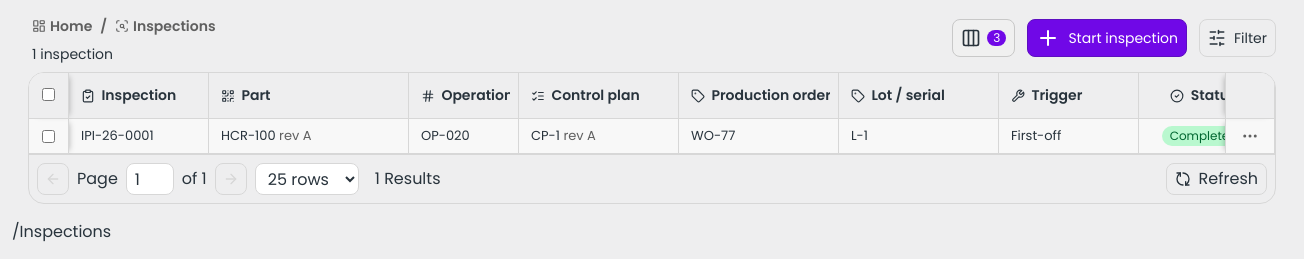
inspection register › opens an inspection from the row actions
Expected: the link "IPI-26-0001" is shown, [77, 126, 158, 146]
Click the button named "Actions" at (1250, 136), box [1237, 123, 1263, 149]
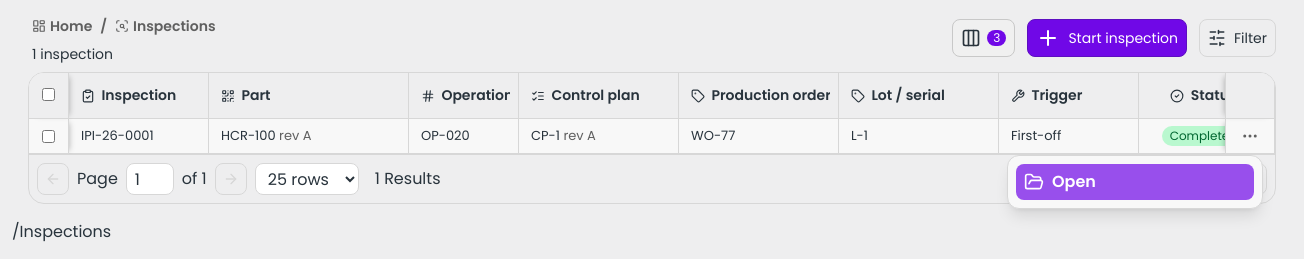
Click the menu item "Open" at (1135, 182), box [1016, 164, 1254, 200]
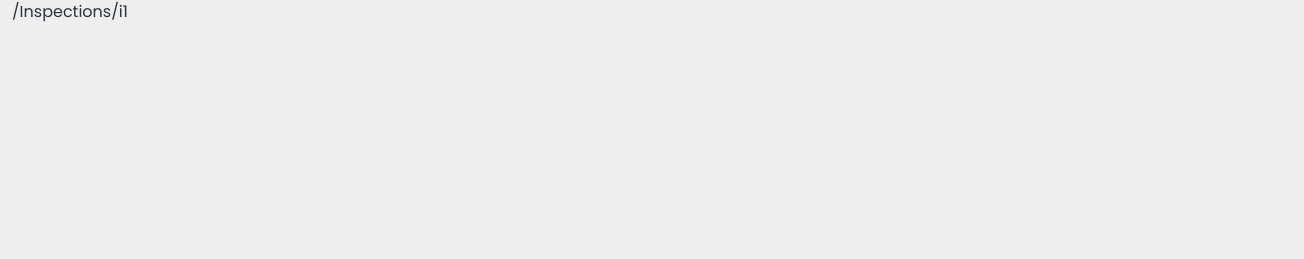
Expected: the text with test id "where" reads "/Inspections/i1", [12, 0, 128, 23]
